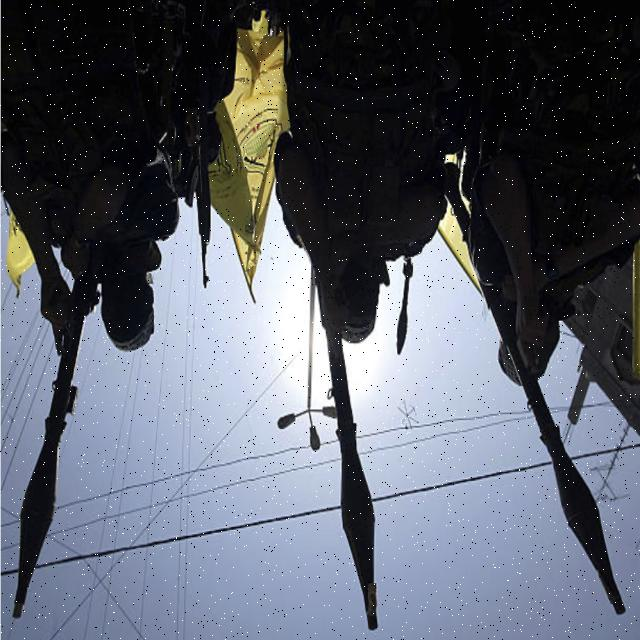bazooka: (438, 186, 638, 625), (300, 152, 387, 638), (11, 255, 99, 629)
